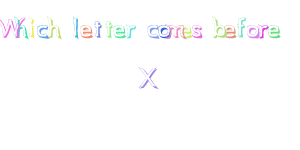W: (1, 13, 19, 41)
X: (131, 62, 166, 92)
b: (210, 13, 225, 43)
c: (146, 21, 159, 43), (36, 20, 49, 41)
e: (268, 18, 282, 42), (80, 19, 93, 43), (224, 18, 237, 42), (113, 20, 126, 40), (183, 21, 193, 41)
f: (237, 13, 247, 41)
h: (47, 12, 64, 42), (14, 15, 30, 42)
i: (27, 18, 38, 40)
l: (70, 15, 81, 42)
m: (167, 20, 185, 42)
o: (158, 20, 170, 44), (247, 20, 259, 43)
r: (126, 21, 138, 41), (258, 21, 268, 45)
s: (191, 20, 204, 41)
t: (93, 15, 103, 40), (104, 16, 113, 41)
